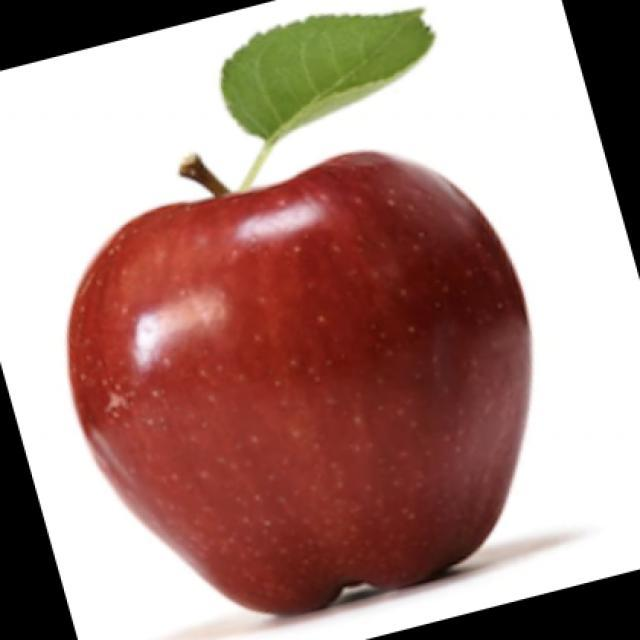Fresh Apple: (56, 162, 546, 615)
